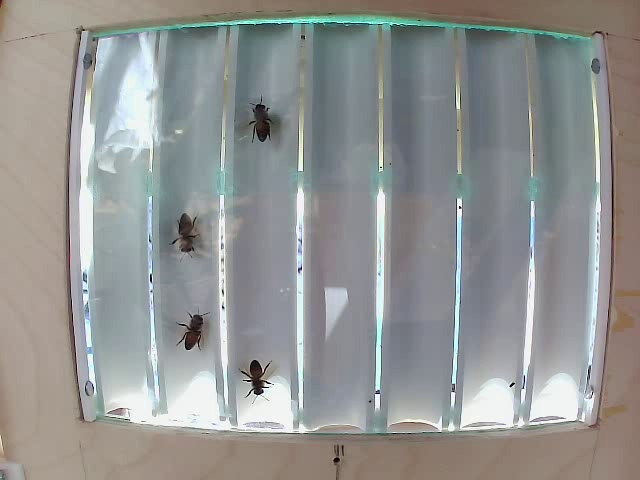bee: (235, 356, 282, 404), (178, 309, 211, 349), (172, 212, 202, 255), (243, 100, 275, 137)
